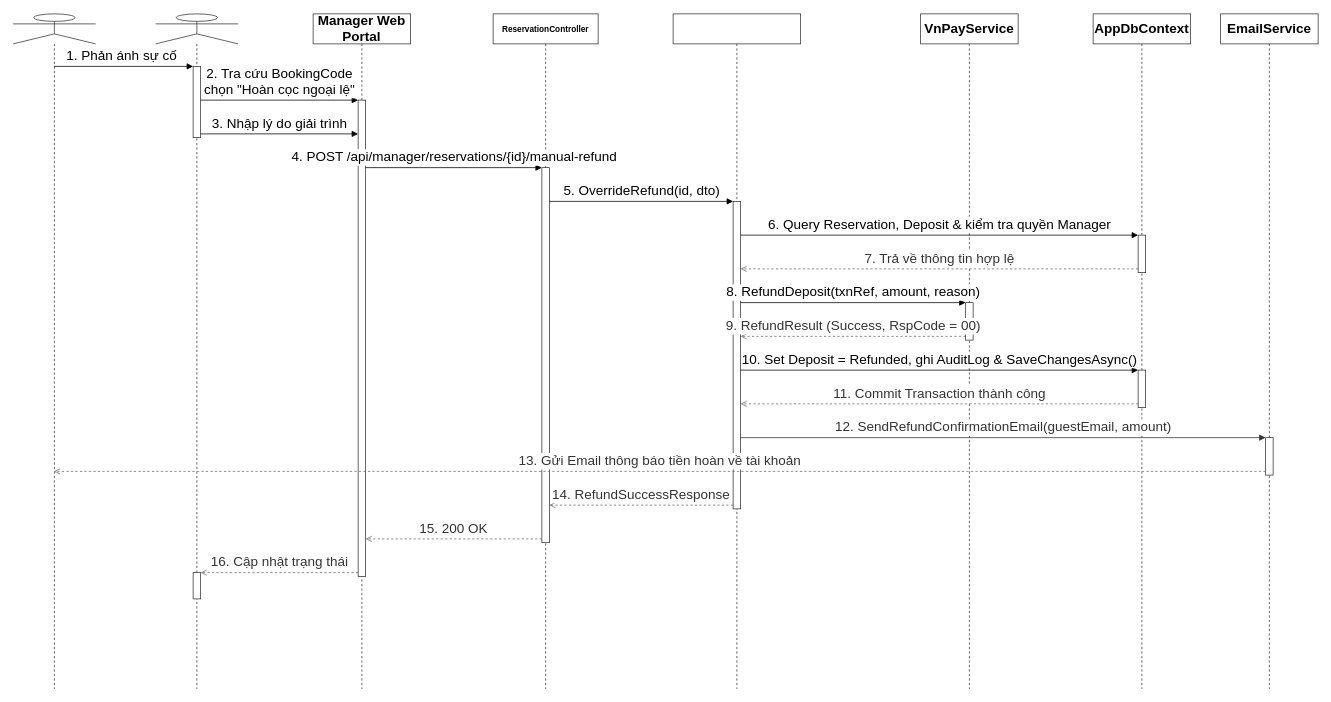
Some shapes in this 1331 by 702 pixel diagram are drawn without their labels. The box of each missing label's shape, as (x1, y1, x2, y2) in pixels:
Khách hàng (Guest): (12, 13, 96, 689)
Quản lý (Manager): (155, 13, 238, 689)
RefundService: (672, 13, 801, 689)
